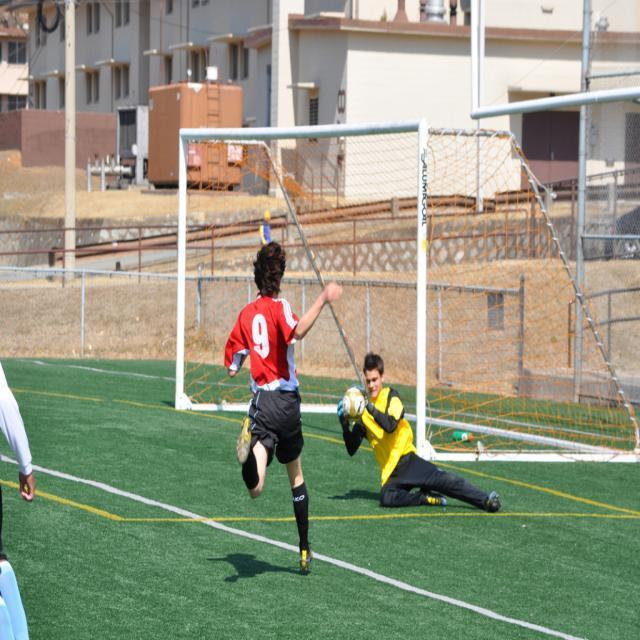football: (337, 385, 370, 422)
